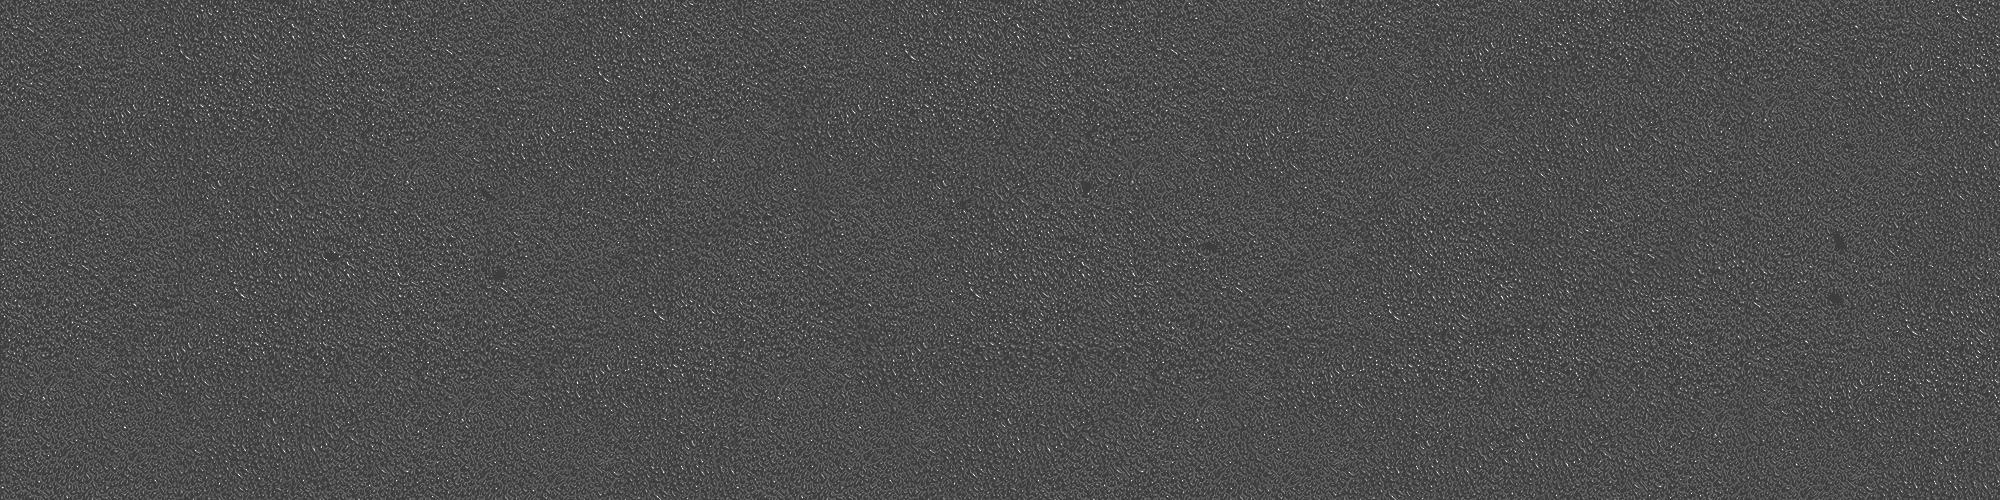Decomposed: (1196, 237, 1224, 256), (483, 264, 509, 283), (480, 179, 494, 212), (1074, 173, 1097, 193), (321, 247, 344, 261)
